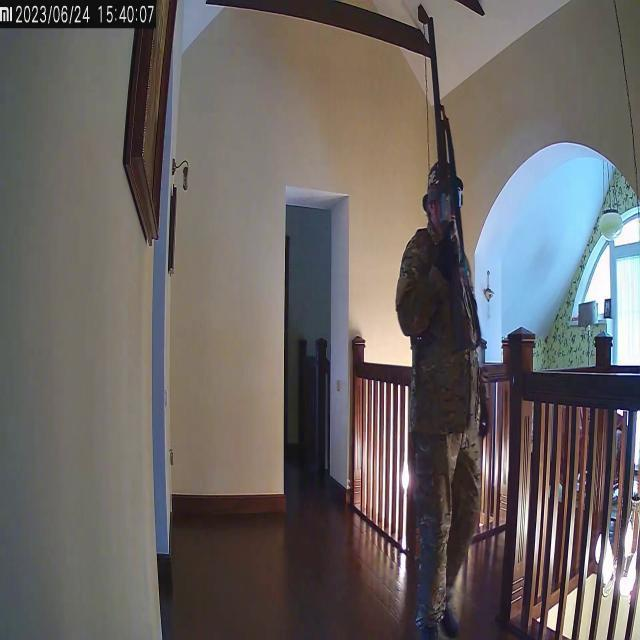gun: (395, 11, 492, 638), (427, 15, 477, 352)
